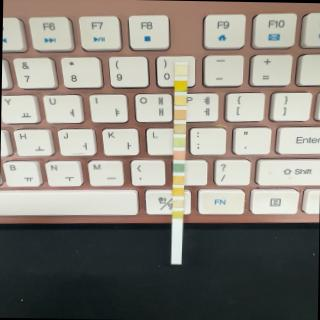mark: (173, 64, 187, 76), (174, 80, 187, 92), (174, 94, 186, 106), (173, 110, 186, 120), (173, 124, 186, 134), (174, 150, 185, 160), (172, 187, 184, 196), (173, 138, 186, 146), (172, 198, 182, 208), (173, 163, 184, 172), (172, 176, 184, 184), (172, 210, 182, 219)
